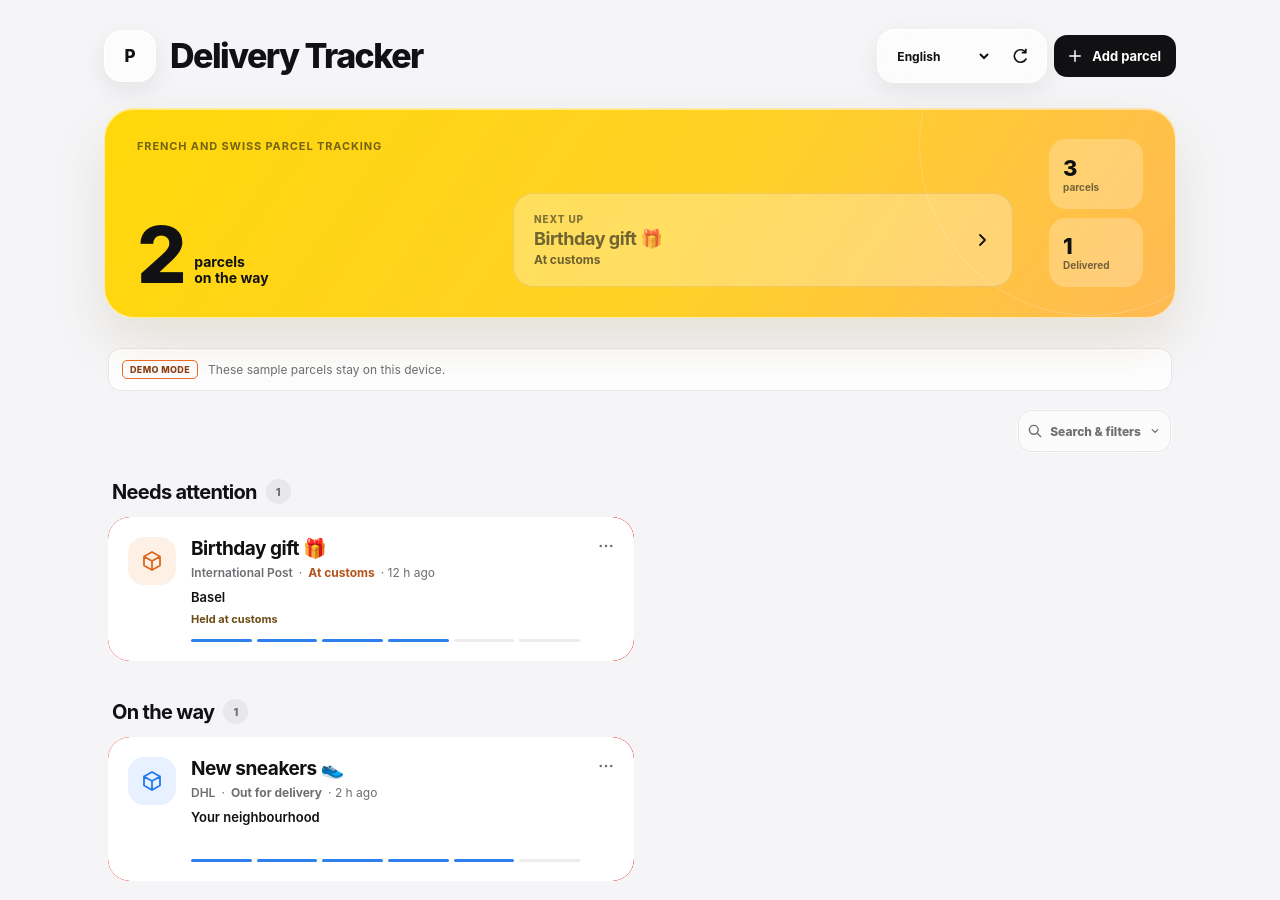
Test: App › adds a parcel through the bottom sheet
The width and height of the screenshot is (1280, 900).
Click the button with aria-label "add a parcel" at (1115,56), box [1054, 35, 1176, 77]
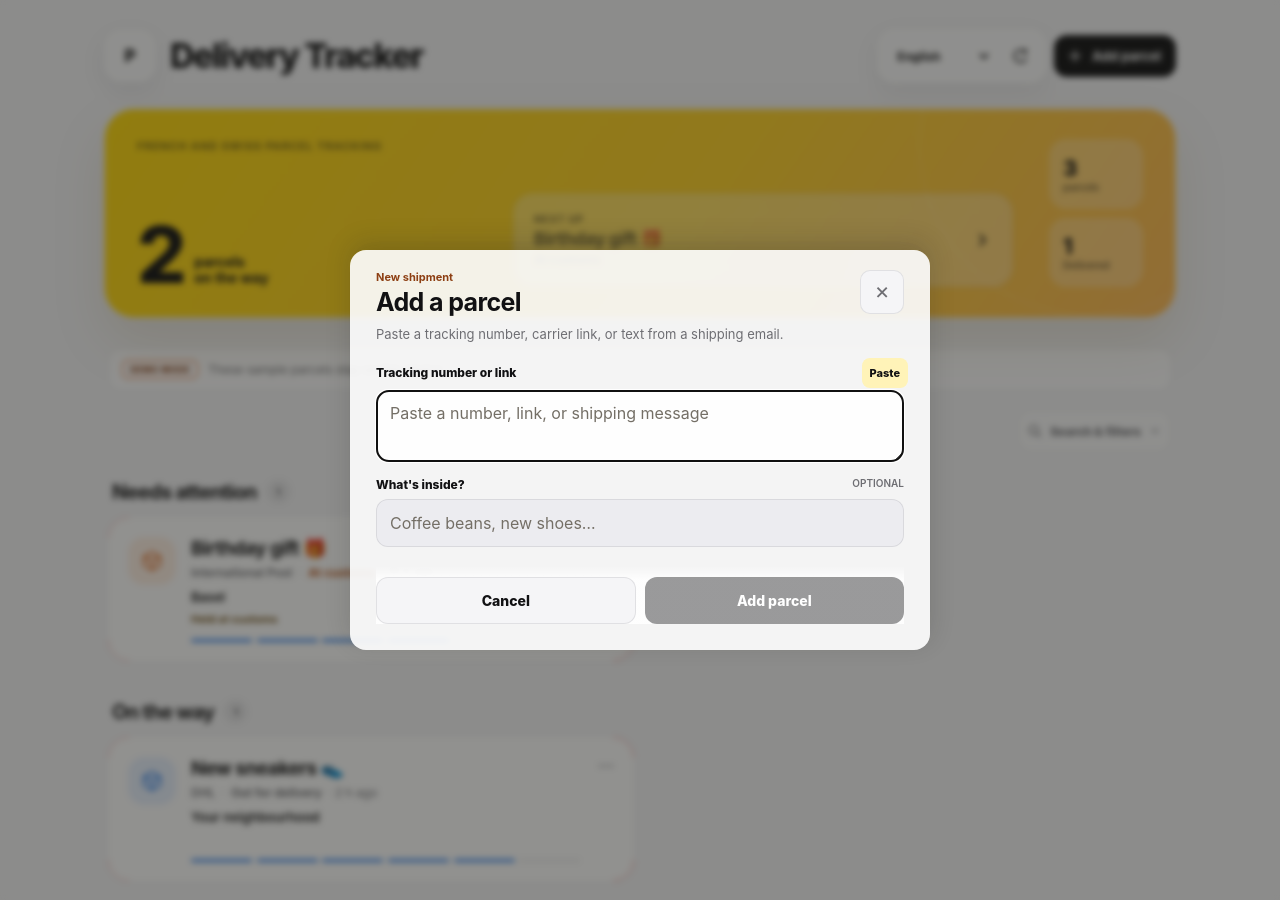
Type "Fondue set 🫕" into the field labelled "What's inside? Optional" at (640,523), box [376, 499, 904, 547]
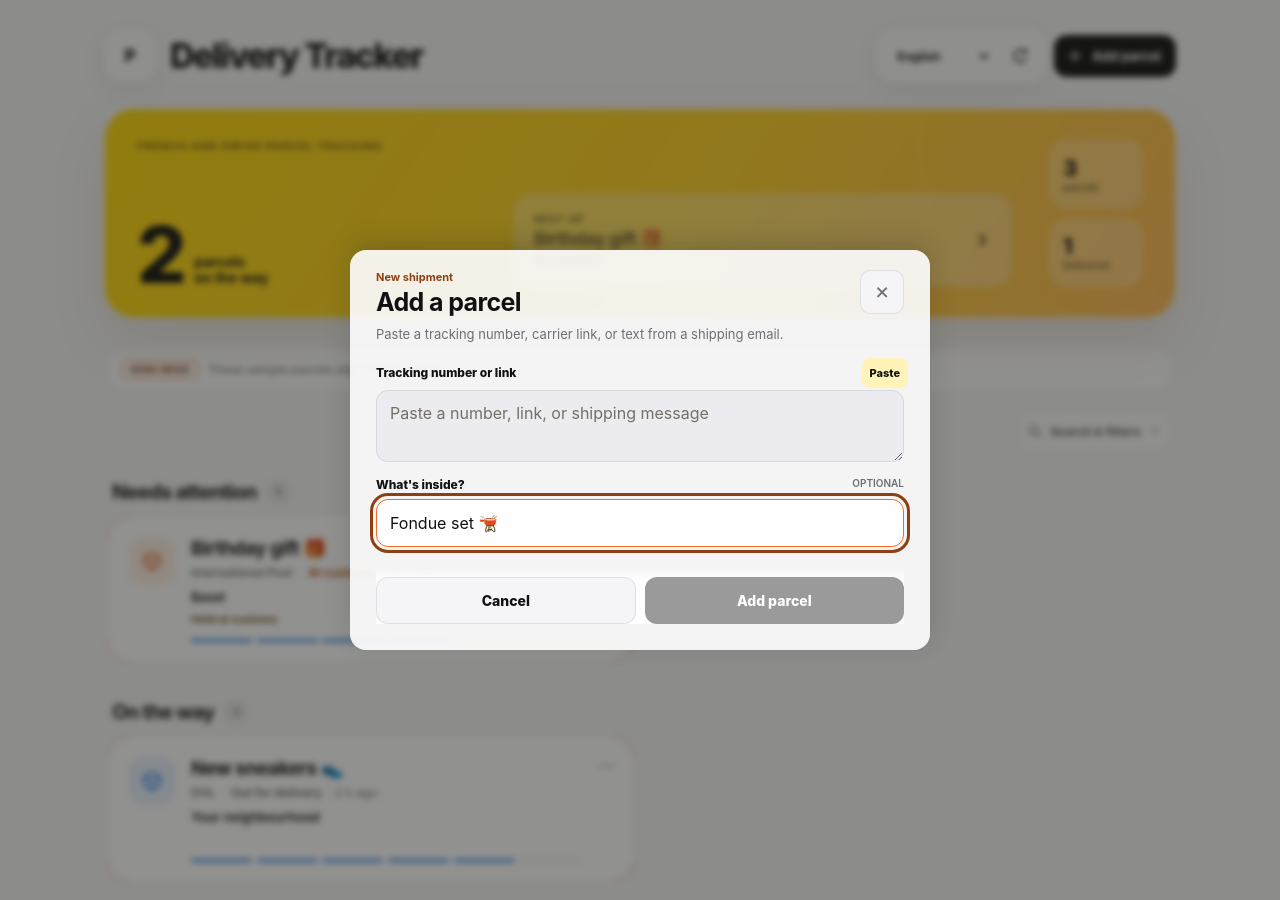
Type "99.34.111111.22222222" into the text box labelled "Tracking number or link" at (640,426), box [376, 390, 904, 462]
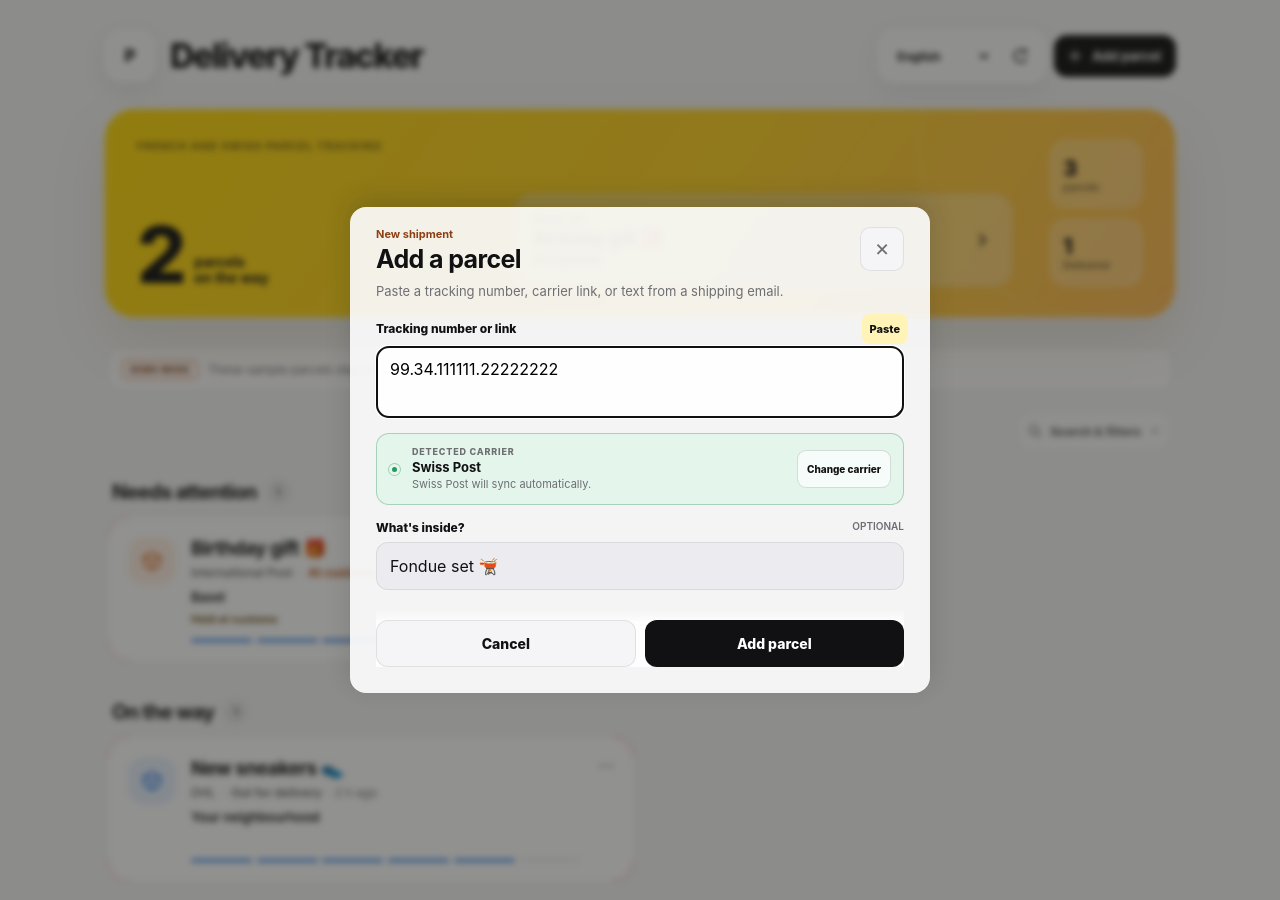
Result: the text "Swiss Post will sync automatically." is shown at [412, 477, 591, 491]
Click the button "Add parcel" at (774,644), box [644, 620, 904, 667]
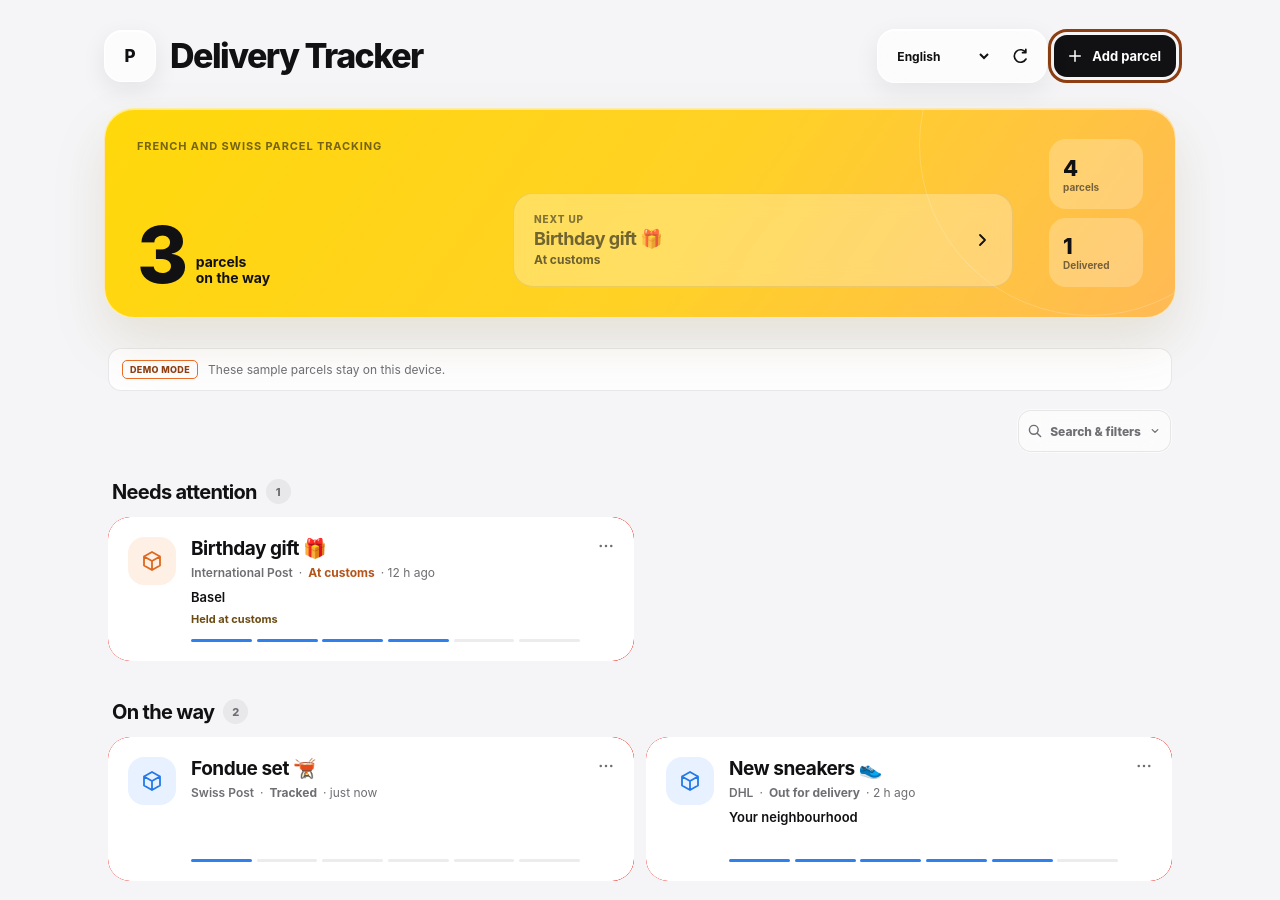
Result: the text "Fondue set 🫕" is shown at [191, 757, 316, 780]
Result: the text "Tracked" is shown at [270, 785, 317, 800]
Result: the heading "Add a parcel" is gone
